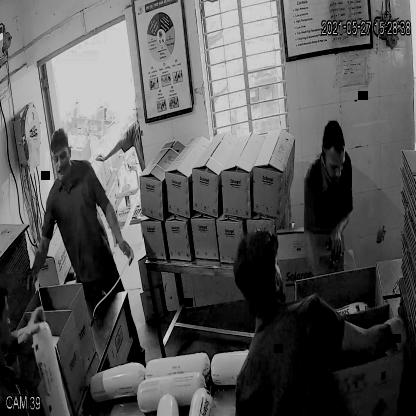no_goggles: (320, 154, 348, 175), (48, 149, 72, 167)
